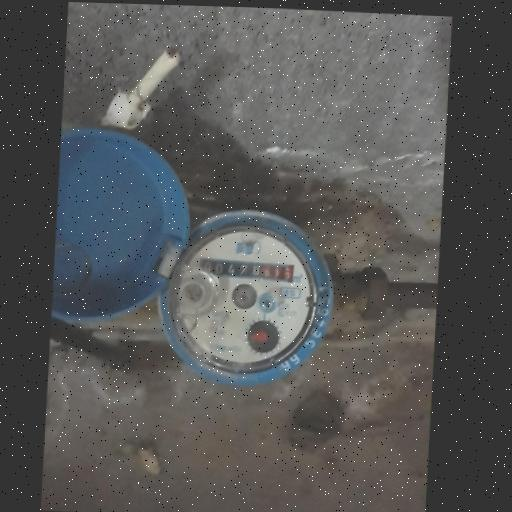0: (203, 260, 212, 274), (215, 262, 224, 275)
1: (272, 265, 280, 279)
3: (284, 265, 293, 280)
4: (227, 263, 236, 275)
6: (263, 265, 271, 278)
7: (238, 264, 249, 277)
8: (252, 265, 261, 277)
border_water_meter_number: (198, 257, 294, 284)
